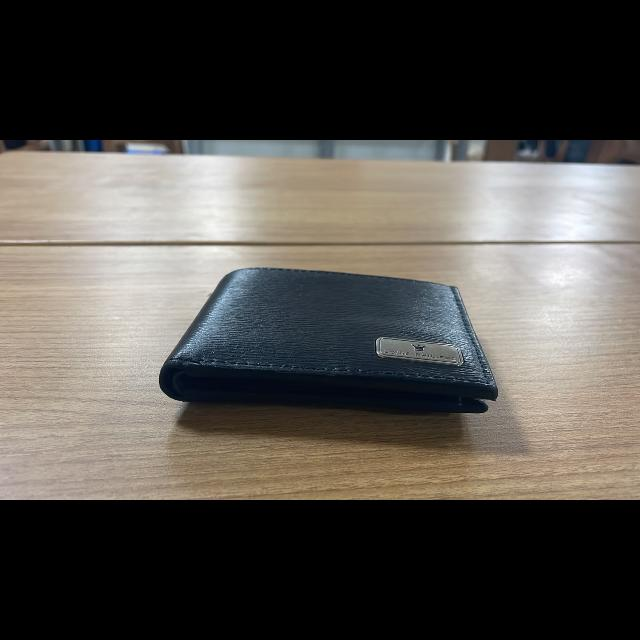wallet: (144, 248, 512, 438)
